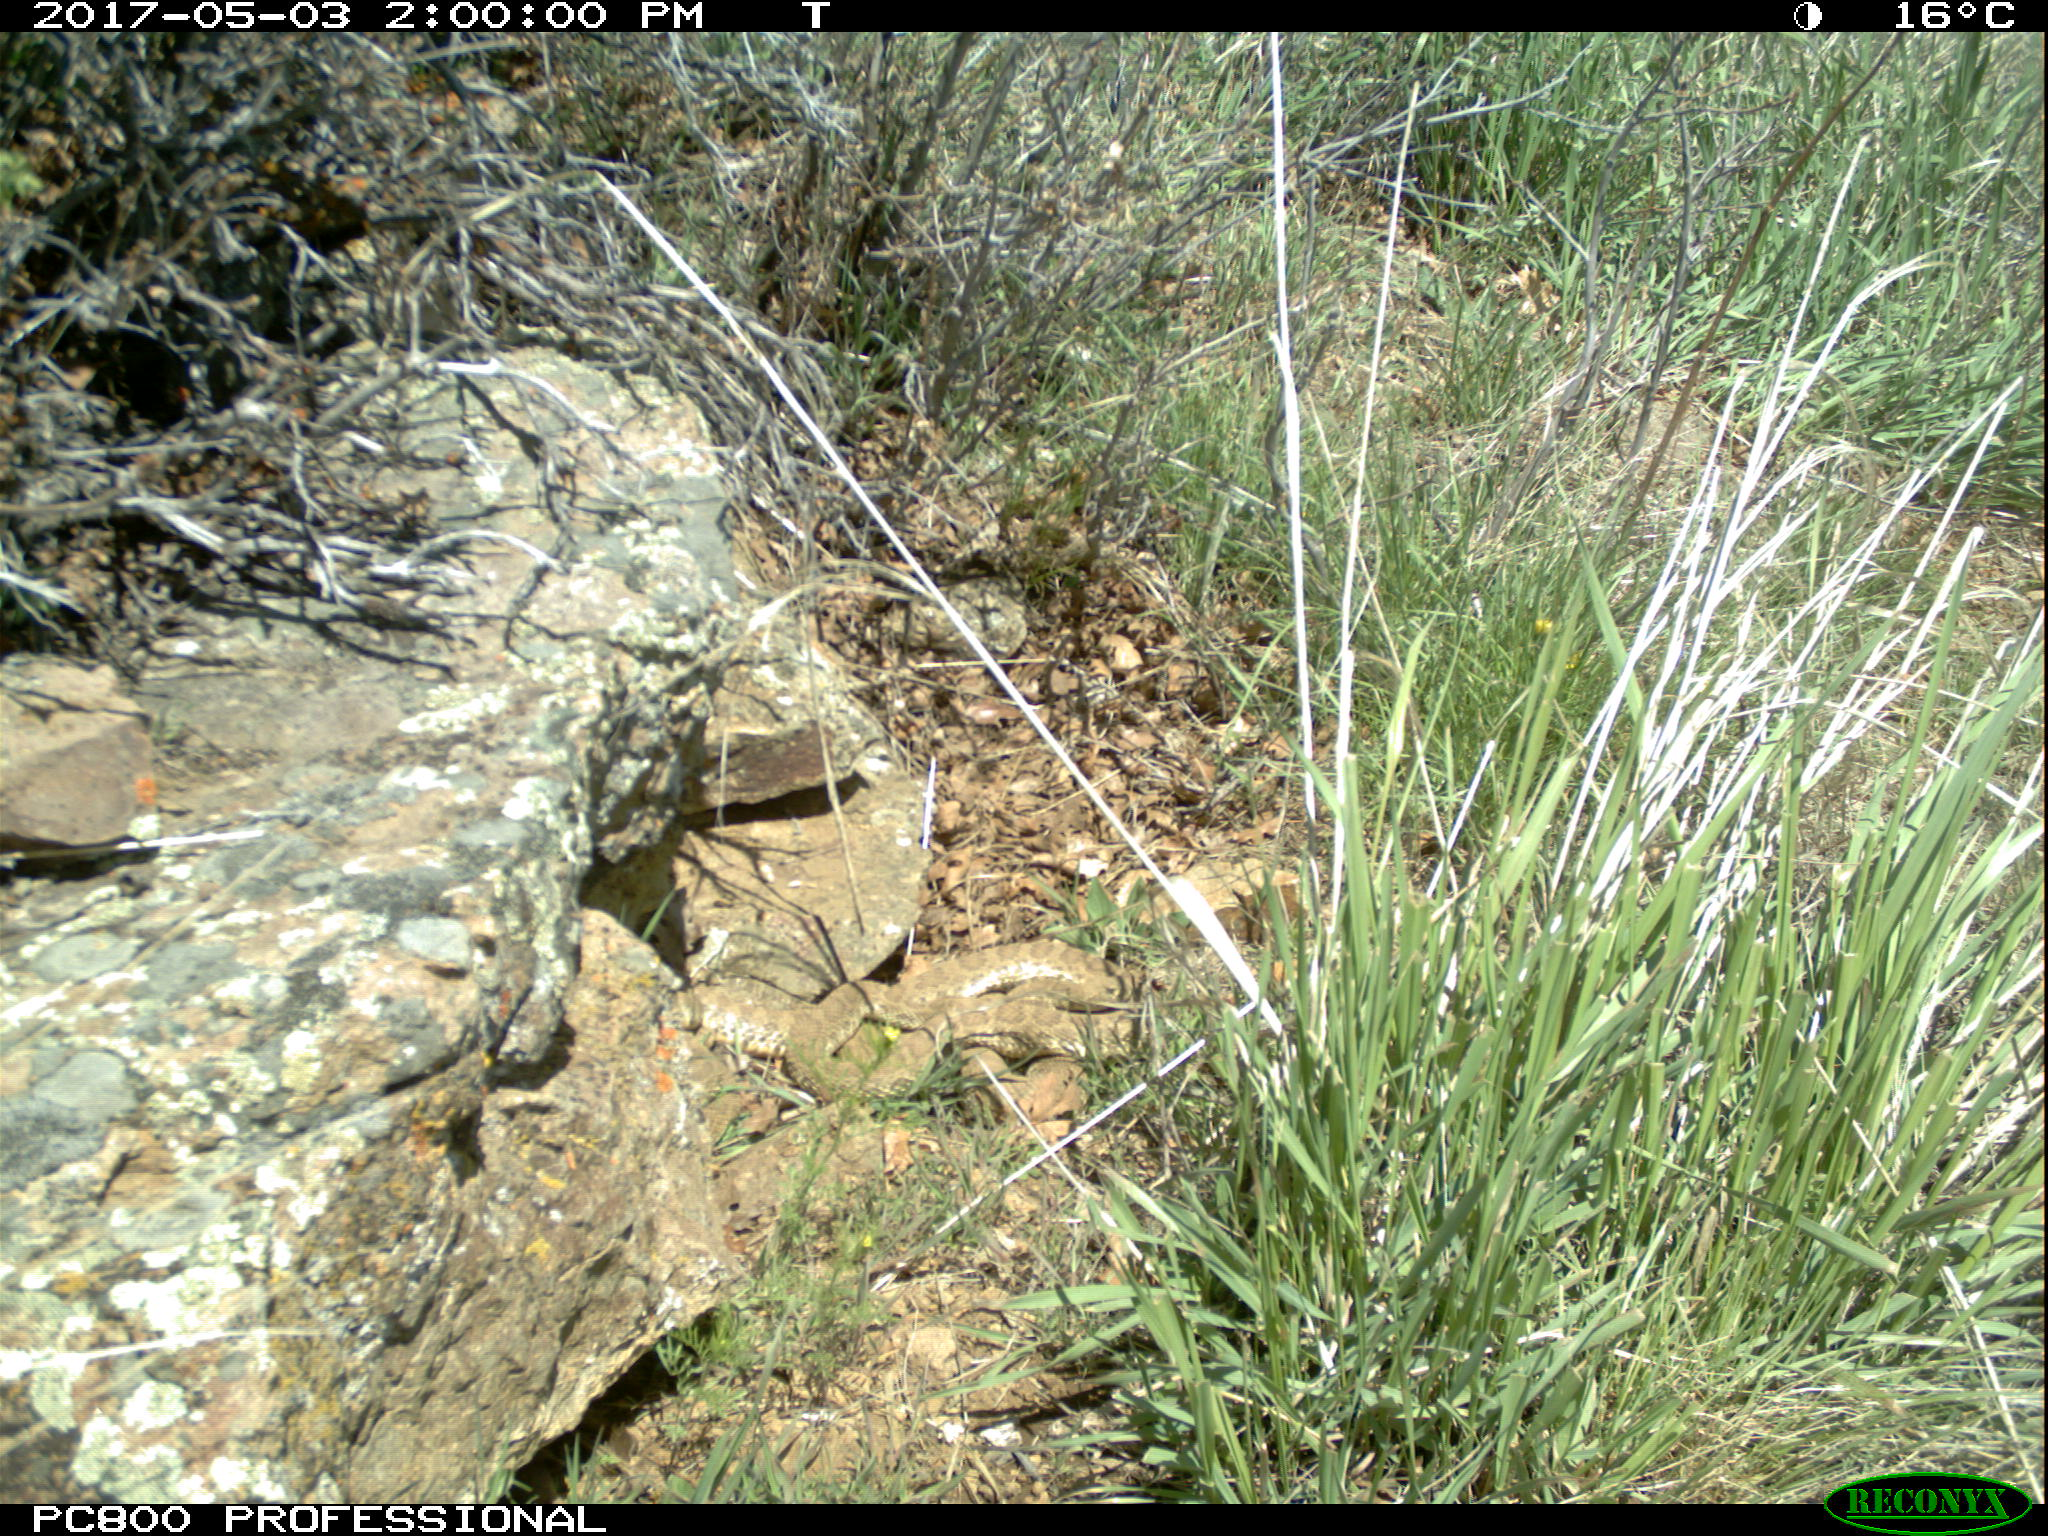snake: (785, 941, 1148, 1086)
